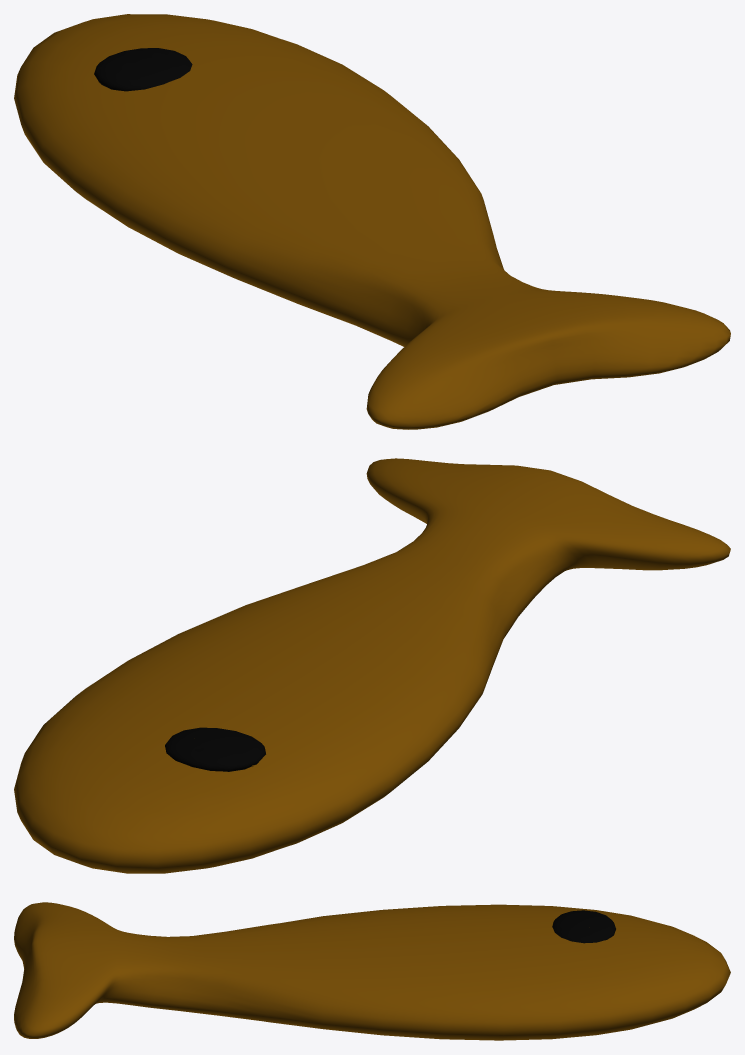
The model's file is Fish.glb.
3 views of the same model, one above another, from view 1: azimuth 30°, elevation 25°; view 2: azimuth 150°, elevation 25°; view 3: azimuth 270°, elevation 25° (orthographic). The views are drawn at different scales.
Parts seen in each view (by area): view 1: Snack; view 2: Snack; view 3: Snack.
Part boxes in pixels (x1,y1,x2,y2): Snack: (14, 14, 730, 429); Snack: (14, 458, 730, 873); Snack: (14, 902, 730, 1040).
Size of the model in its own units: 1.1 by 0.3111 by 2.58.
